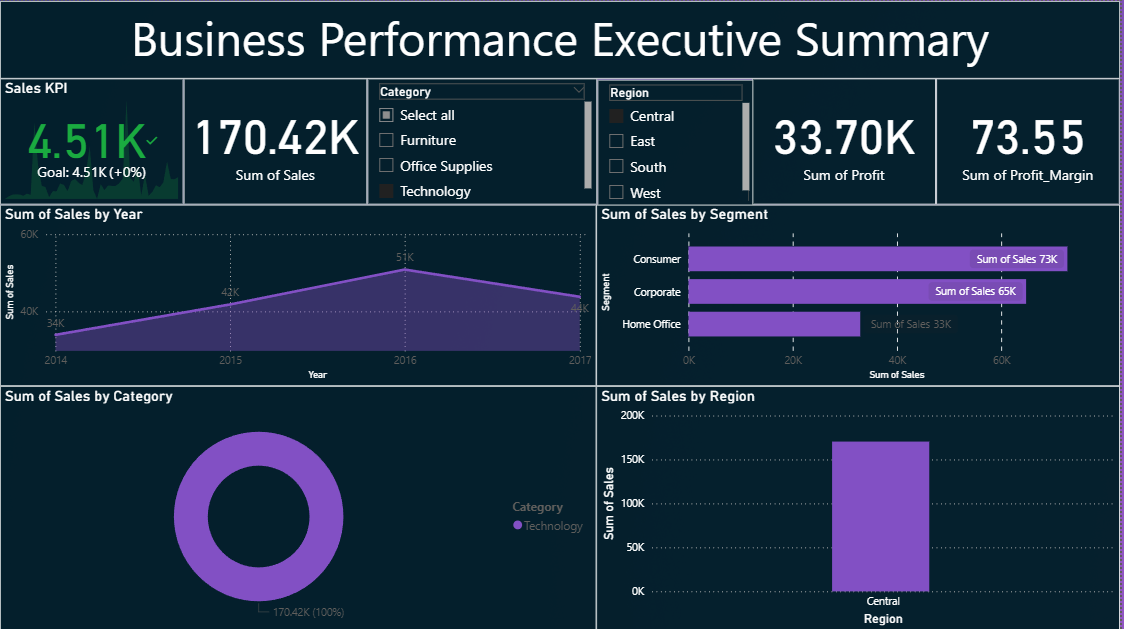

Layout of this report page (visuals, bound fields, positions):
{"tool":"powerbi","page":{"name":"Page 1","canvas":[1280,720],"ordinal":0},"visuals":[{"type":"lineChart","fields":{"Category":["Superstore_clean.MonthYear.Variation.Date Hierarchy.Year","Superstore_clean.MonthYear.Variation.Date Hierarchy.Quarter","Superstore_clean.MonthYear.Variation.Date Hierarchy.Month","Superstore_clean.MonthYear.Variation.Date Hierarchy.Day"],"Y":["Sum(Superstore_clean.Sales)"]},"box":[0,233.3,682,207.2],"z":0},{"type":"clusteredColumnChart","fields":{"Category":["Superstore_clean.Region"],"Y":["Sum(Superstore_clean.Sales)"]},"box":[682,440.5,598.3,279.9],"z":1000},{"type":"donutChart","fields":{"Category":["Superstore_clean.Category"],"Y":["Sum(Superstore_clean.Sales)"]},"box":[0,440.5,682,279.9],"z":2000},{"type":"kpi","title":"Sales KPI","fields":{"Indicator":["Sum(Superstore_clean.Sales)"],"TrendLine":["Superstore_clean.YearMonth"],"Goal":["Sum(Superstore_clean.Sales)"]},"box":[0,89.2,209.9,144.1],"z":3000},{"type":"slicer","fields":{"Values":["Superstore_clean.Region"]},"box":[682.9,89.6,179.1,144.3],"z":4000},{"type":"slicer","fields":{"Values":["Superstore_clean.Category"]},"box":[419.9,89.2,262.1,144.1],"z":5000},{"type":"card","fields":{"Values":["Sum(Superstore_clean.Sales)"]},"box":[209.9,89.2,209.9,144.1],"z":6000},{"type":"card","fields":{"Values":["Sum(Superstore_clean.Profit)"]},"box":[860.4,89.2,209.9,144.1],"z":7000},{"type":"card","fields":{"Values":["Sum(Superstore_clean.Profit_Margin)"]},"box":[1070.3,89.2,209.9,144.1],"z":8000},{"type":"clusteredBarChart","fields":{"Category":["Superstore_clean.Segment"],"Y":["Sum(Superstore_clean.Sales)"]},"box":[682,233.3,598.3,207.2],"z":9000},{"type":"textbox","box":[0,0,1280.3,89.2],"z":10000}]}

Visuals, with their boxes in screenshot pixels (x1, y1, x2, y2), scaled from the page's 1280x720 canvas onto the 1124x629 screenshot:
lineChart - Superstore_clean.MonthYear.Variation.Date Hierarchy.Year x Superstore_clean.MonthYear.Variation.Date Hierarchy.Quarter: <region>0, 204, 599, 385</region>
clusteredColumnChart - Superstore_clean.Region x Sum(Superstore_clean.Sales): <region>599, 385, 1123, 628</region>
donutChart - Superstore_clean.Category x Sum(Superstore_clean.Sales): <region>0, 385, 599, 628</region>
"Sales KPI" kpi: <region>0, 78, 184, 204</region>
slicer - Superstore_clean.Region: <region>600, 78, 757, 204</region>
slicer - Superstore_clean.Category: <region>369, 78, 599, 204</region>
card - Sum(Superstore_clean.Sales): <region>184, 78, 369, 204</region>
card - Sum(Superstore_clean.Profit): <region>756, 78, 940, 204</region>
card - Sum(Superstore_clean.Profit_Margin): <region>940, 78, 1123, 204</region>
clusteredBarChart - Superstore_clean.Segment x Sum(Superstore_clean.Sales): <region>599, 204, 1123, 385</region>
textbox: <region>0, 0, 1123, 78</region>
